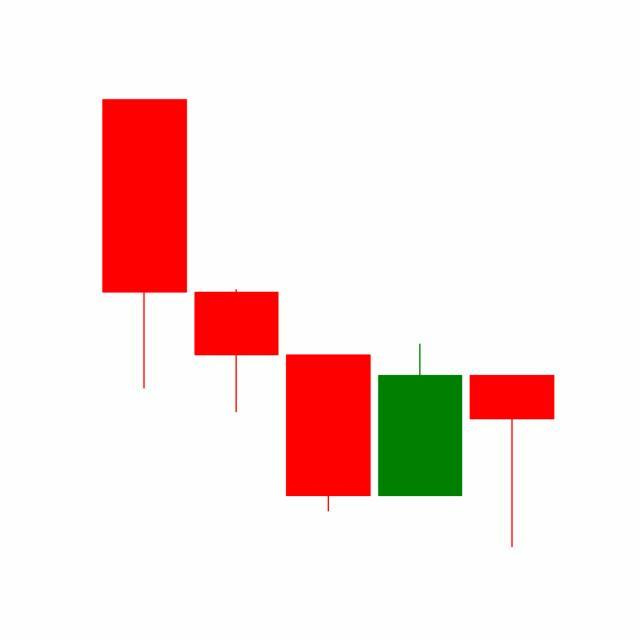Hammer: (466, 373, 559, 550)
